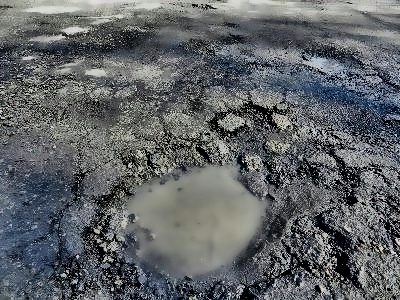pothole: (80, 132, 354, 298), (235, 101, 279, 130)
